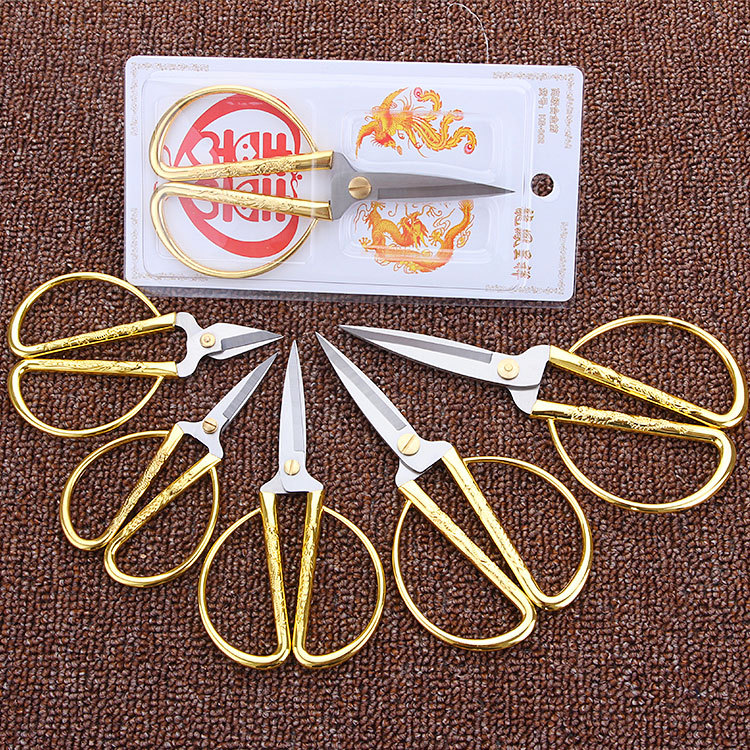scissors: (307, 329, 596, 654), (330, 306, 749, 526), (142, 80, 531, 283), (197, 335, 391, 685), (59, 345, 277, 591), (9, 265, 287, 437)
